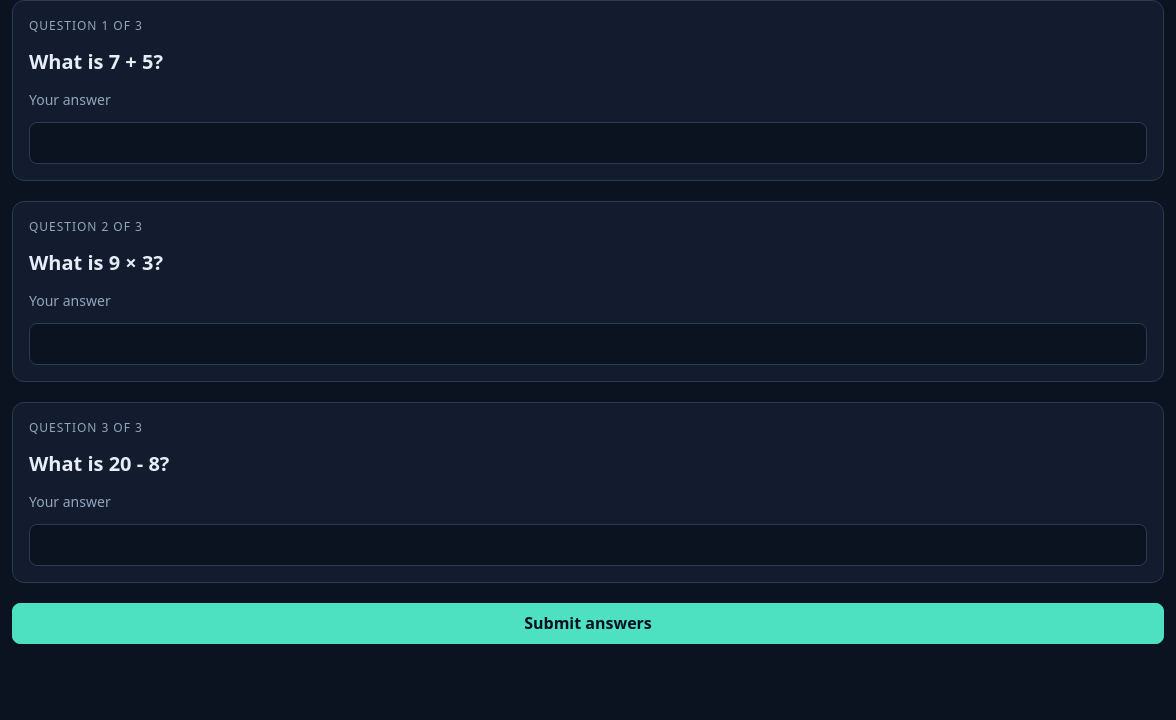
Test: QuestionForm › renders server-scored results without client-side scoring
Expected: the heading "What is 7 + 5?" is shown, x1=29 y1=47 x2=163 y2=77
Step 1. Type "12" into the field labelled "Your answer" below "What is 7 + 5?" → (588, 143), box x1=29 y1=122 x2=1147 y2=164
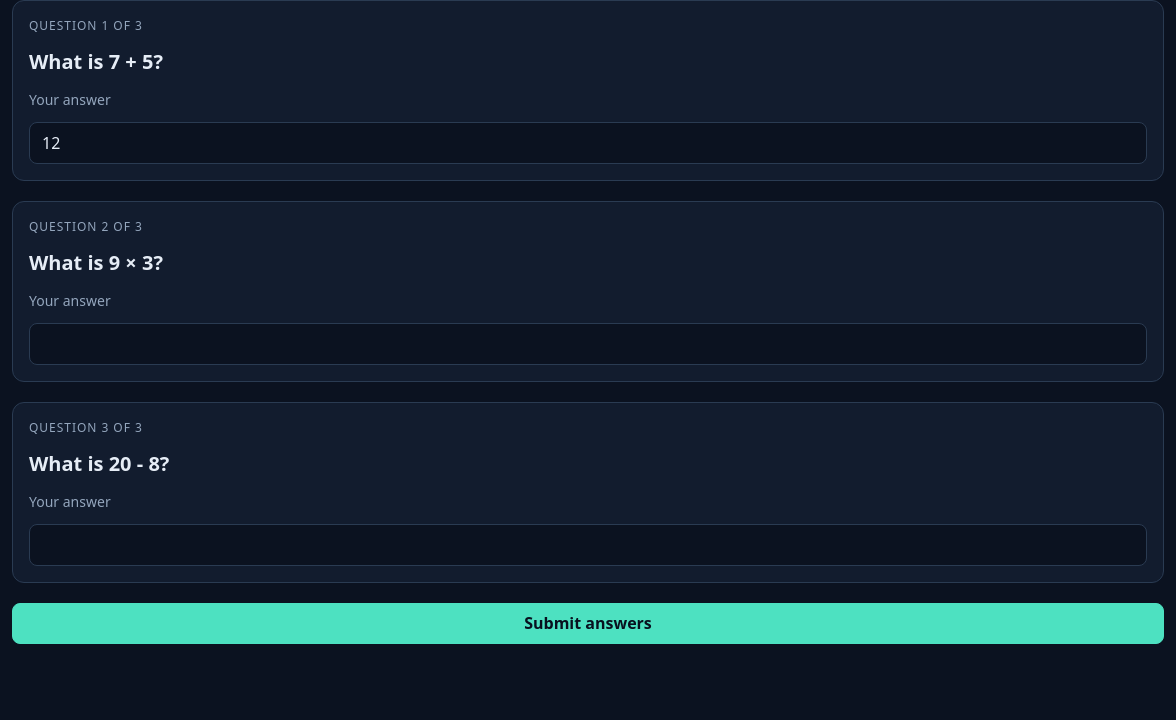
Step 2. Type "0" into the field labelled "Your answer" below "What is 9 × 3?" → (588, 344), box x1=29 y1=323 x2=1147 y2=365
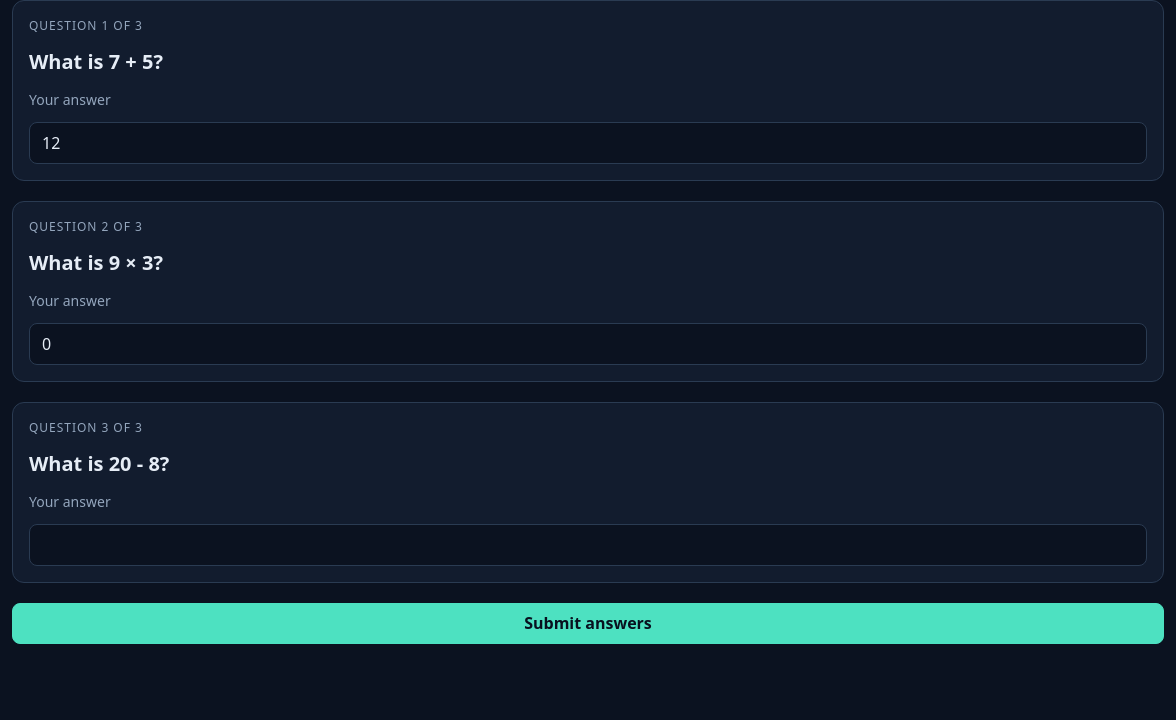
Step 3. Type "12" into the field labelled "Your answer" below "What is 20 - 8?" → (588, 545), box x1=29 y1=524 x2=1147 y2=566
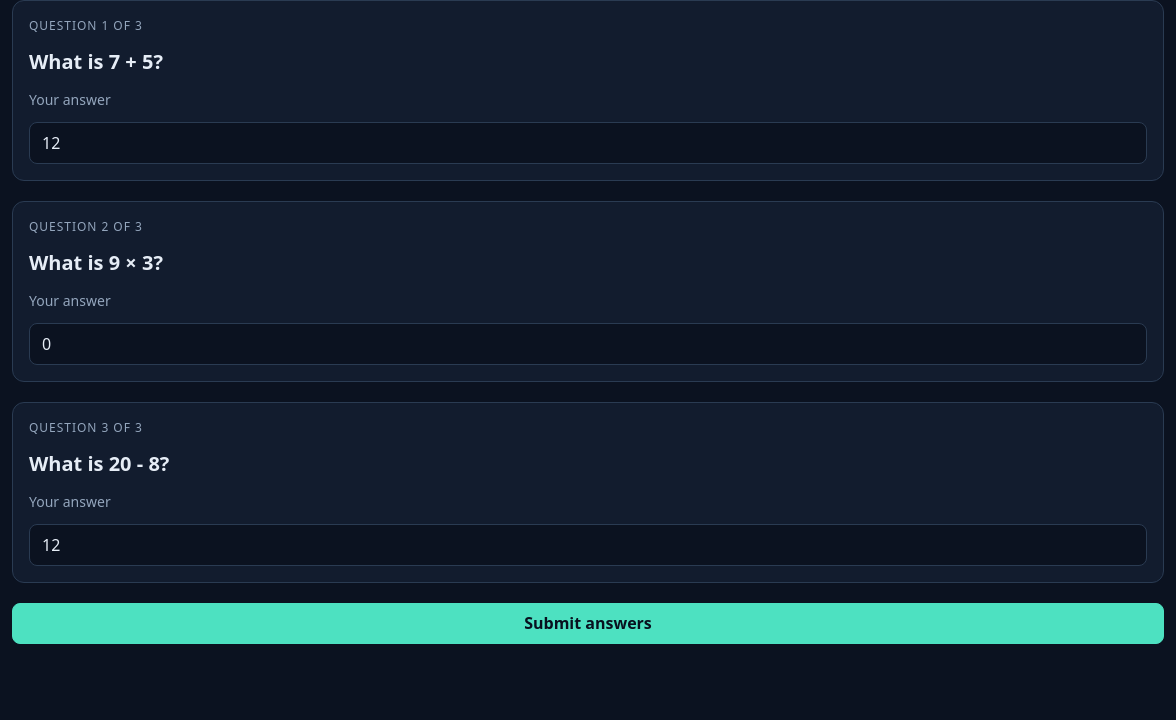
Step 4. Click the button "Submit answers" → (588, 624), box x1=12 y1=603 x2=1164 y2=644
(page scrolled)
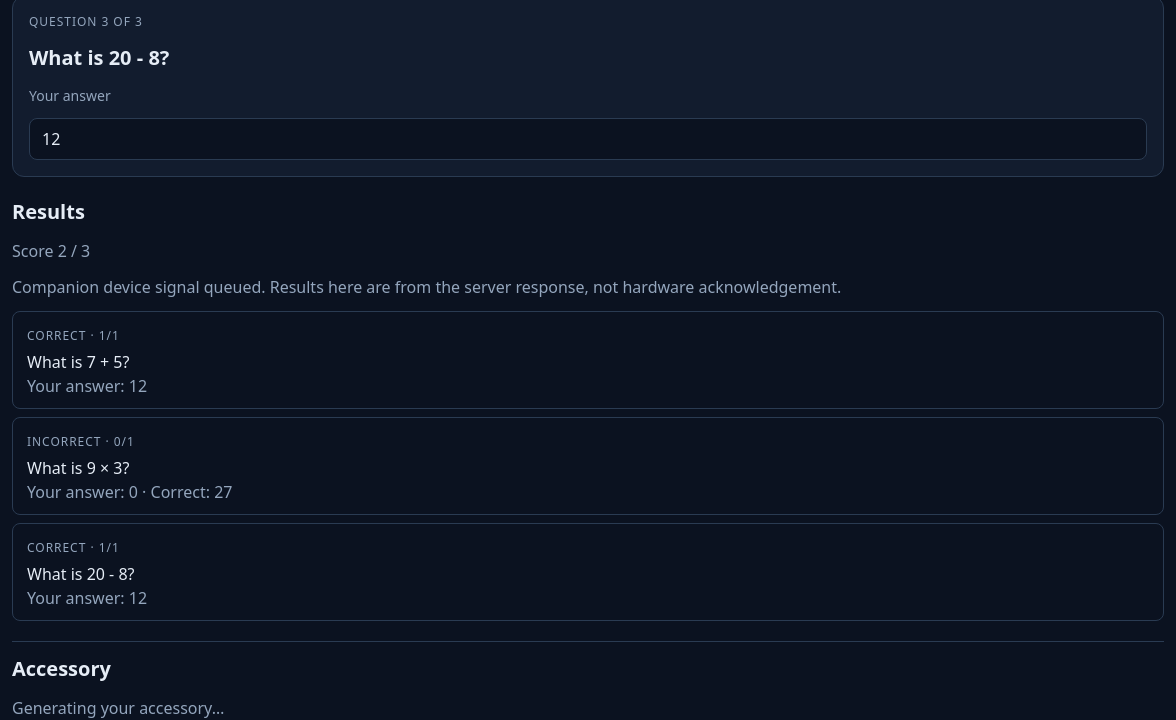
Now the text "Score 2 / 3" is shown, box x1=12 y1=239 x2=90 y2=263
Now the text "Incorrect · 0/1" is shown, box x1=27 y1=433 x2=135 y2=450
Now the text with test id "device-delivery-note" is shown, box x1=12 y1=275 x2=841 y2=299
